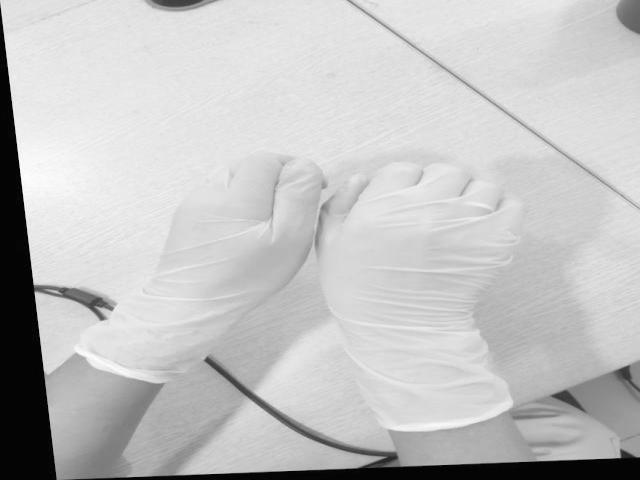gloved: (314, 143, 530, 329), (152, 150, 316, 302)
